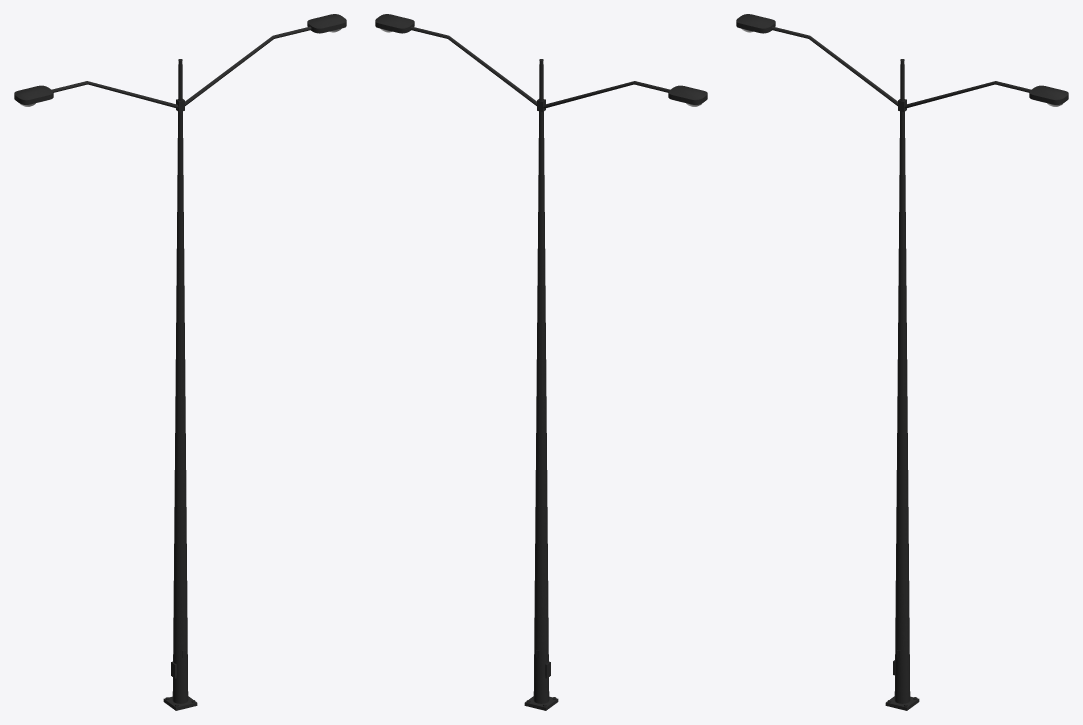
Rendered from GSDStreetLightDouble.FBX.
3 renders of one model, left to right at view 1: azimuth 30°, elevation 25°; view 2: azimuth 150°, elevation 25°; view 3: azimuth 330°, elevation 25°, orthographic.
Visible parts, largest first — view 1: GSDStreetLightDouble; view 2: GSDStreetLightDouble; view 3: GSDStreetLightDouble.
Boxes of the visible parts, bbox=[...] form: GSDStreetLightDouble: bbox=[14, 14, 346, 710]; GSDStreetLightDouble: bbox=[375, 14, 707, 710]; GSDStreetLightDouble: bbox=[736, 14, 1068, 710].
Bounding box in the file's own units: 4.94 × 9.4 × 0.3204.
